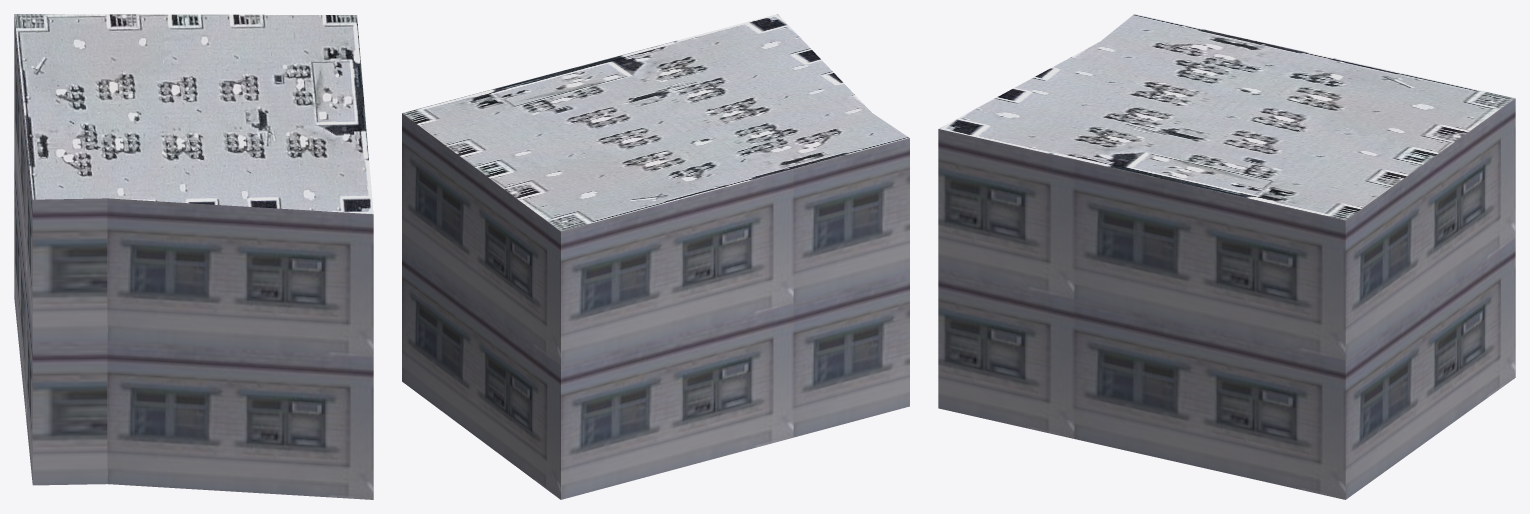
File: ResTex__704.fbx
3 views of the same model, side by side, from view 1: azimuth 30°, elevation 25°; view 2: azimuth 150°, elevation 25°; view 3: azimuth 270°, elevation 25° (orthographic). The views are drawn at different scales.
Parts seen in each view (by area): view 1: CityEngineMaterial_1_m, CityEngineMaterial_4_m; view 2: CityEngineMaterial_1_m, CityEngineMaterial_4_m; view 3: CityEngineMaterial_1_m, CityEngineMaterial_4_m.
Part boxes in pixels (x1,y1,x2,y2): CityEngineMaterial_1_m: (14,14,373,499); CityEngineMaterial_4_m: (14,14,373,214); CityEngineMaterial_1_m: (402,113,909,499); CityEngineMaterial_4_m: (402,14,909,231); CityEngineMaterial_1_m: (938,98,1515,499); CityEngineMaterial_4_m: (939,14,1514,220).
Bounding box in the file's own units: 9.5 × 6 × 11.23.
2 materials, 2 textured.
